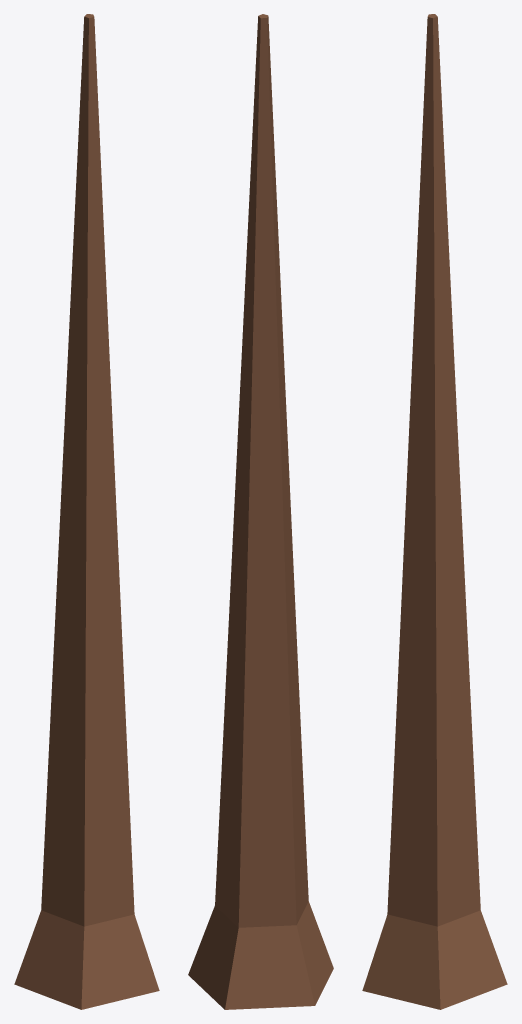
File: tree_bark_3.fbx
3 renders of one model, left to right at view 1: azimuth 30°, elevation 25°; view 2: azimuth 150°, elevation 25°; view 3: azimuth 330°, elevation 25°, orthographic.
Parts seen in each view (by area): view 1: tree_pine; view 2: tree_pine; view 3: tree_pine.
Part boxes in pixels (box(x1,y1,x2,y2)): tree_pine: box(14, 14, 159, 1009); tree_pine: box(188, 14, 333, 1009); tree_pine: box(362, 14, 507, 1009).
Size of the model in its own units: 78.59 by 571 by 74.75.
